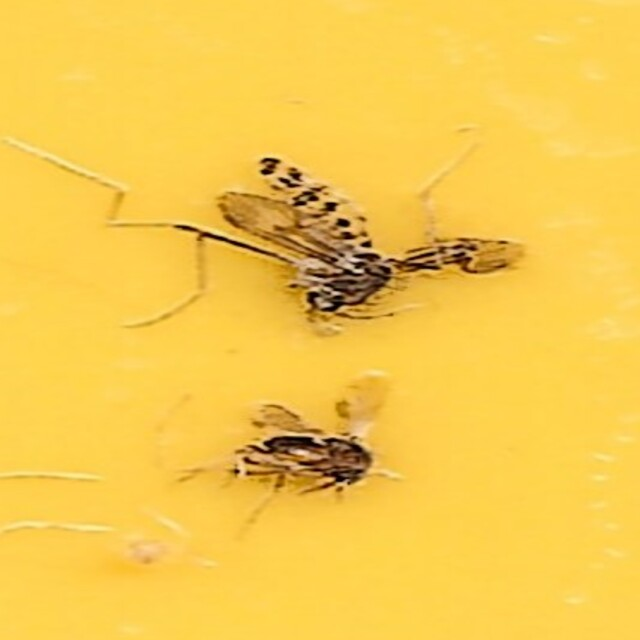Nematocera: (240, 148, 400, 322), (259, 432, 386, 492)
